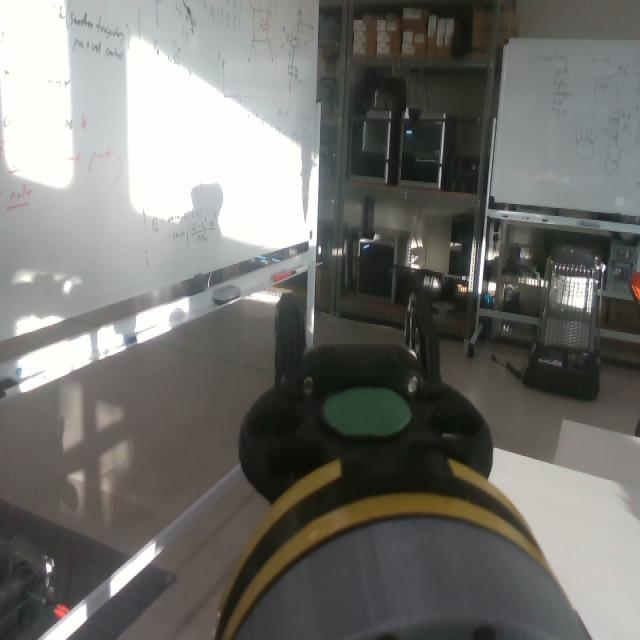body_connector: (240, 517, 589, 640)
connection: (212, 453, 593, 640)
leg: (213, 292, 550, 640)
leg_connector: (206, 452, 551, 640)
marker: (326, 388, 414, 436)
